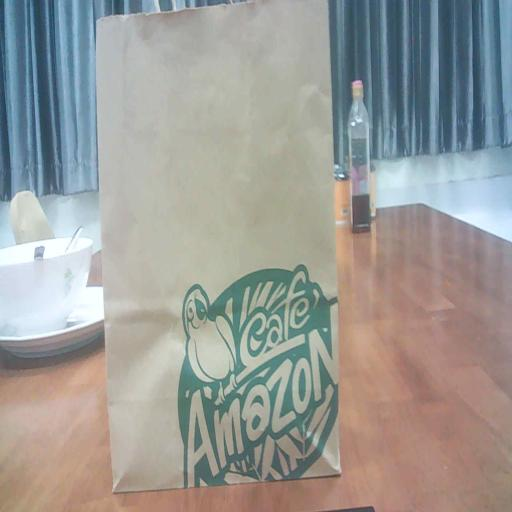bag: (91, 1, 346, 493)
